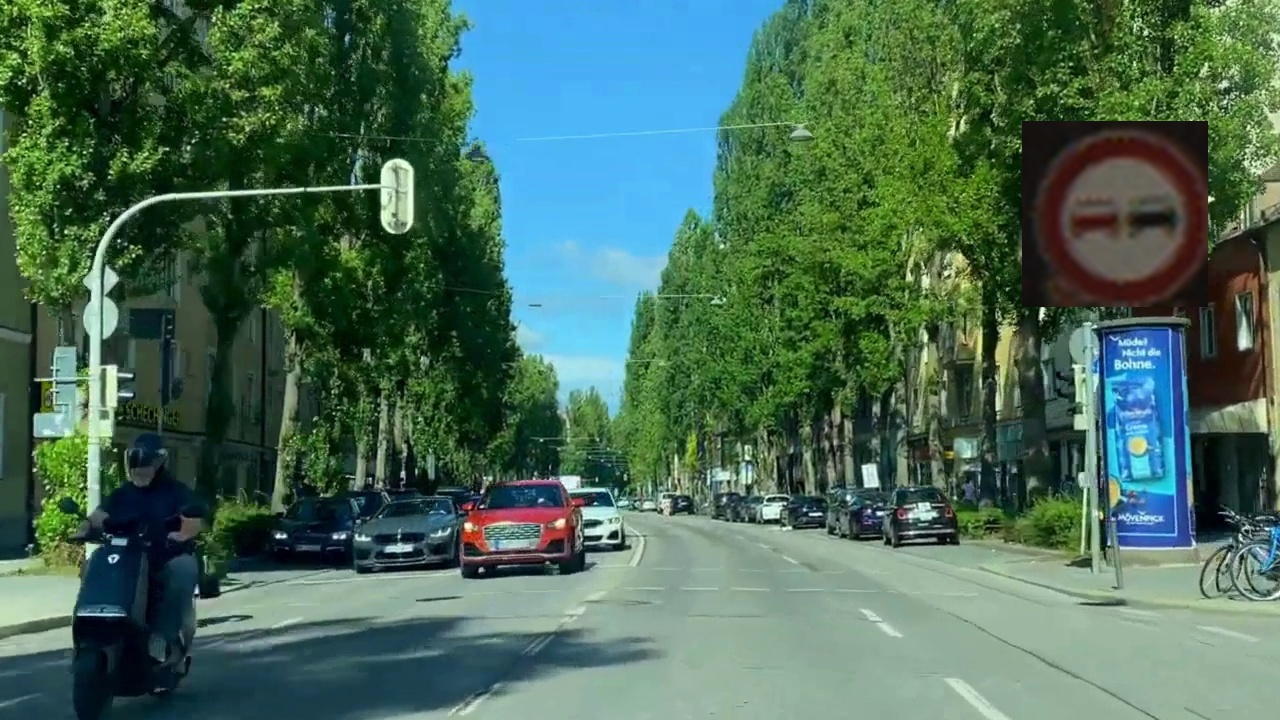No passing: (1022, 121, 1208, 307)
